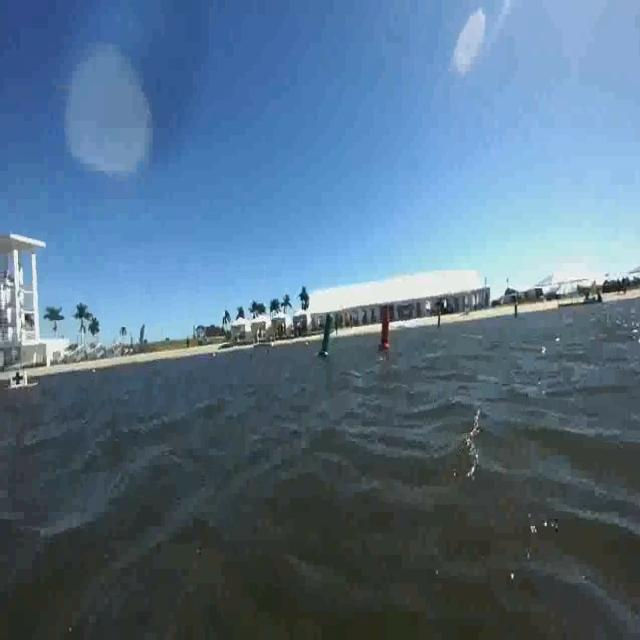green-column-buoy: (314, 300, 336, 364)
red-column-buoy: (378, 308, 393, 352)
